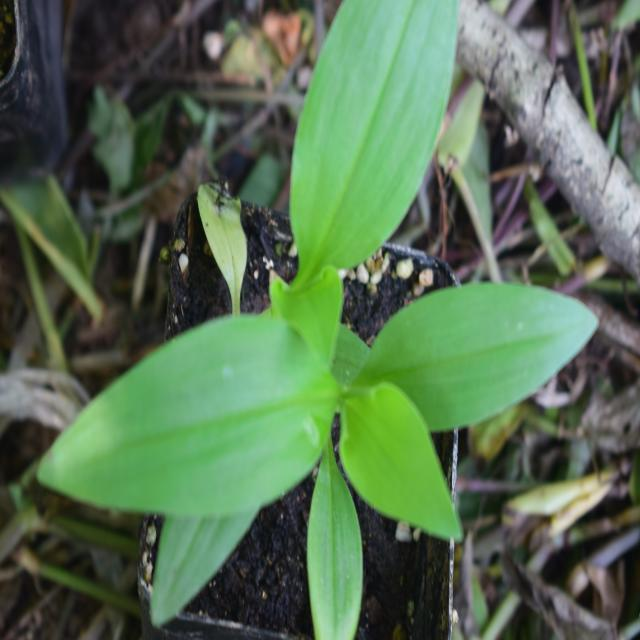Common Dayflower: (57, 283, 600, 601)
